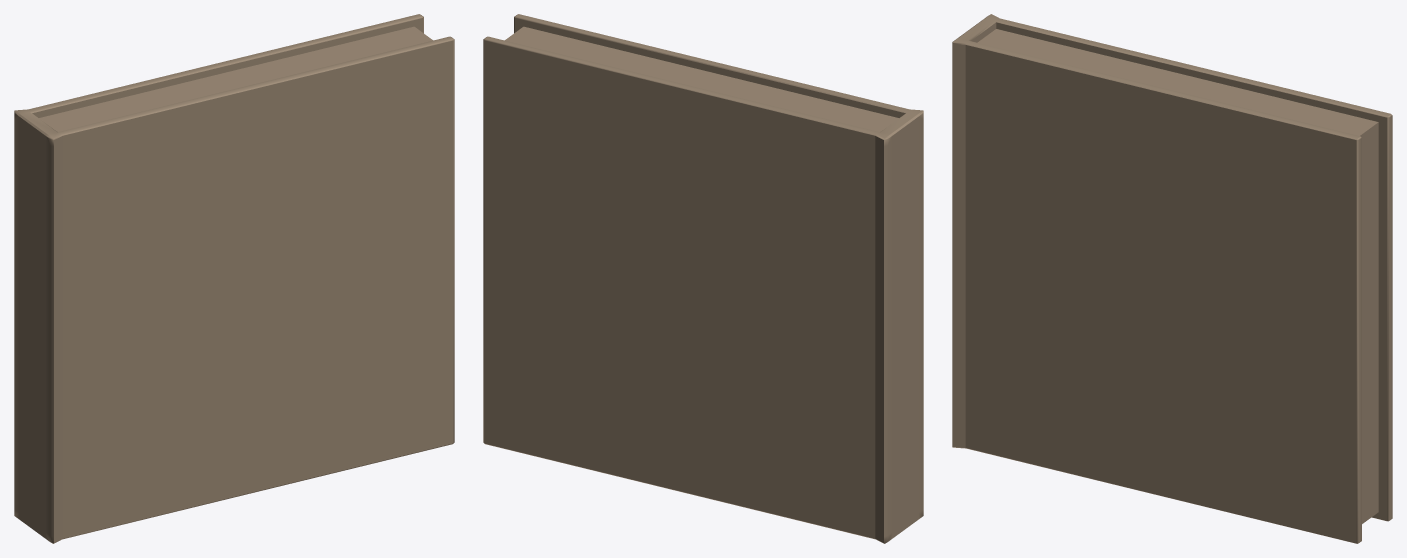
Rendered from Book05.fbx.
The picture shows the model from 3 angles, left to right: view 1: azimuth 30°, elevation 25°; view 2: azimuth 150°, elevation 25°; view 3: azimuth 330°, elevation 25°; orthographic projection.
Parts seen in each view (by area): view 1: Book05; view 2: Book05; view 3: Book05.
Boxes of the visible parts, x1,y1,x2,y2 form: Book05: (14, 14, 454, 543); Book05: (483, 14, 923, 543); Book05: (952, 14, 1392, 543).
Size of the model in its own units: 0.2404 by 0.2296 by 0.0408.
